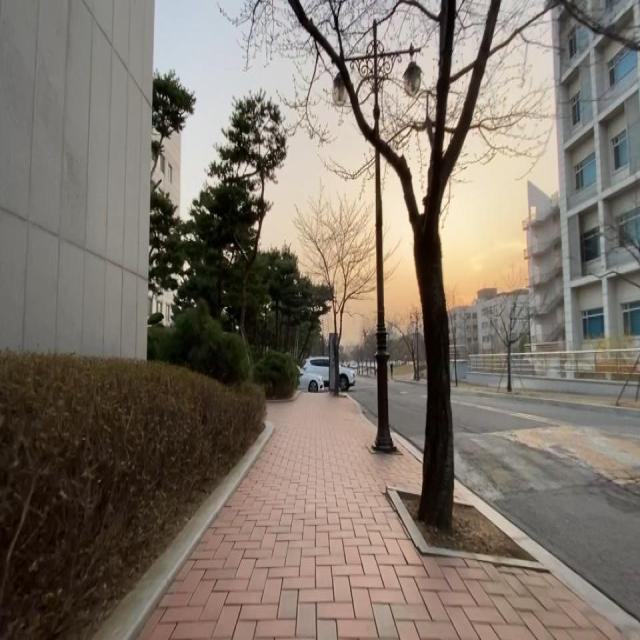sidewalk: (133, 393, 640, 640), (457, 383, 640, 408)
